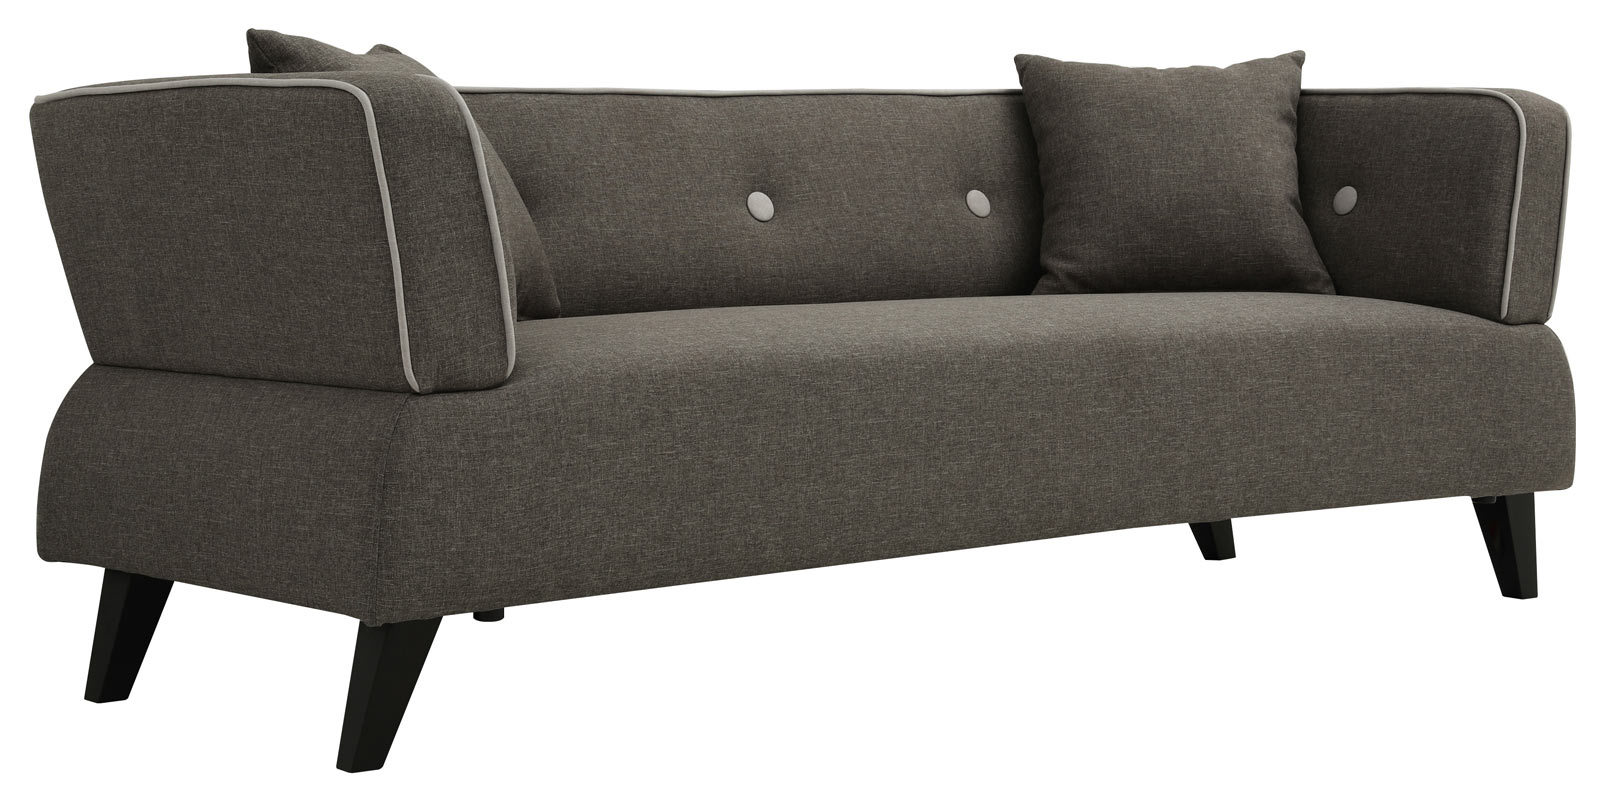Dime Three Seater Sofa in Grey Colour by Zofa: (13, 13, 1582, 789)
